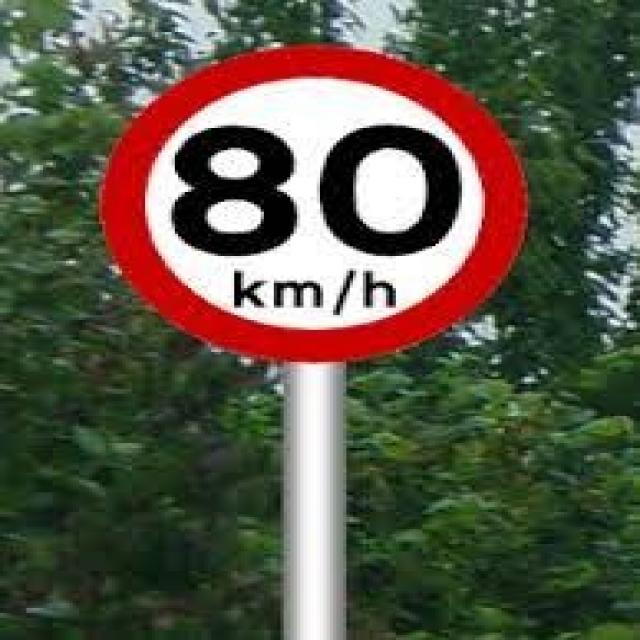speed_limit_80: (92, 36, 539, 363)
